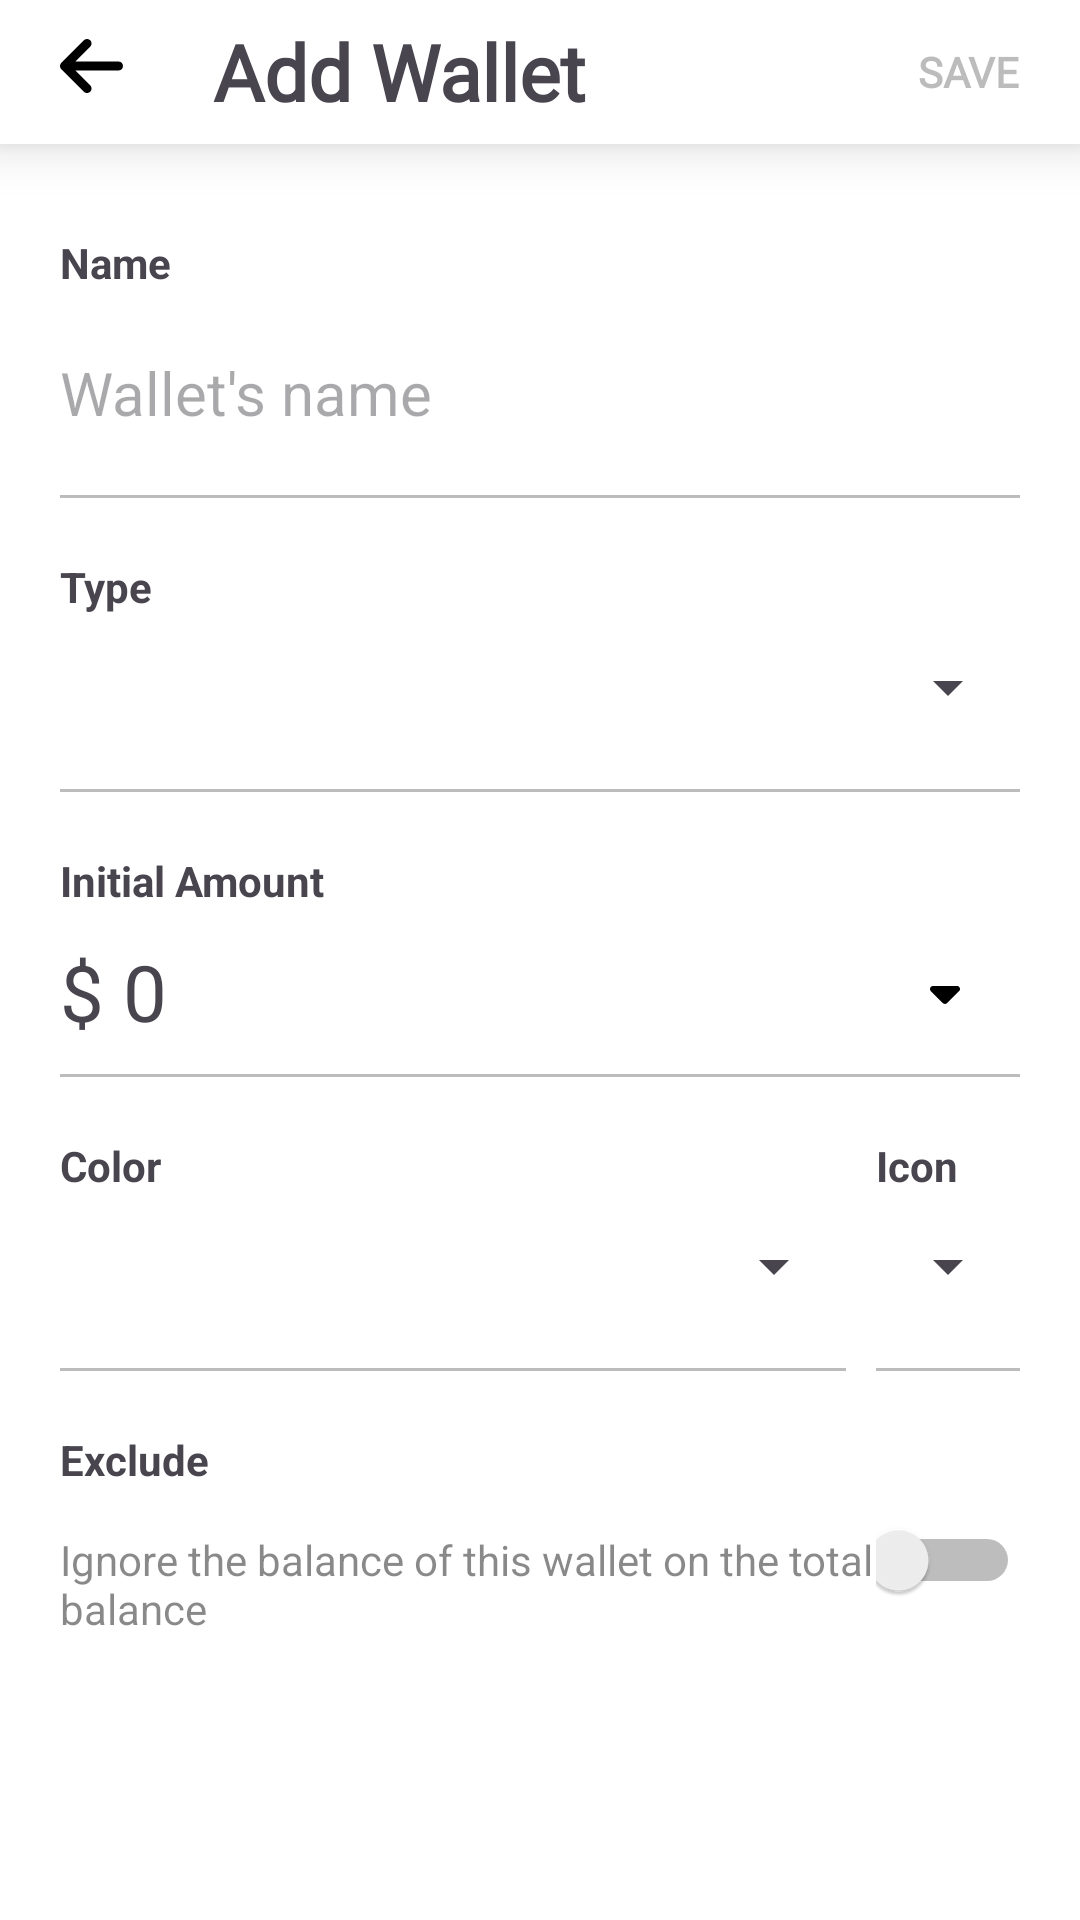

Named icons in this screenshot (1080x1920) and their centers, (x=x, y=y):
arrow left: (x=91, y=66)
caret down: (x=945, y=995)
